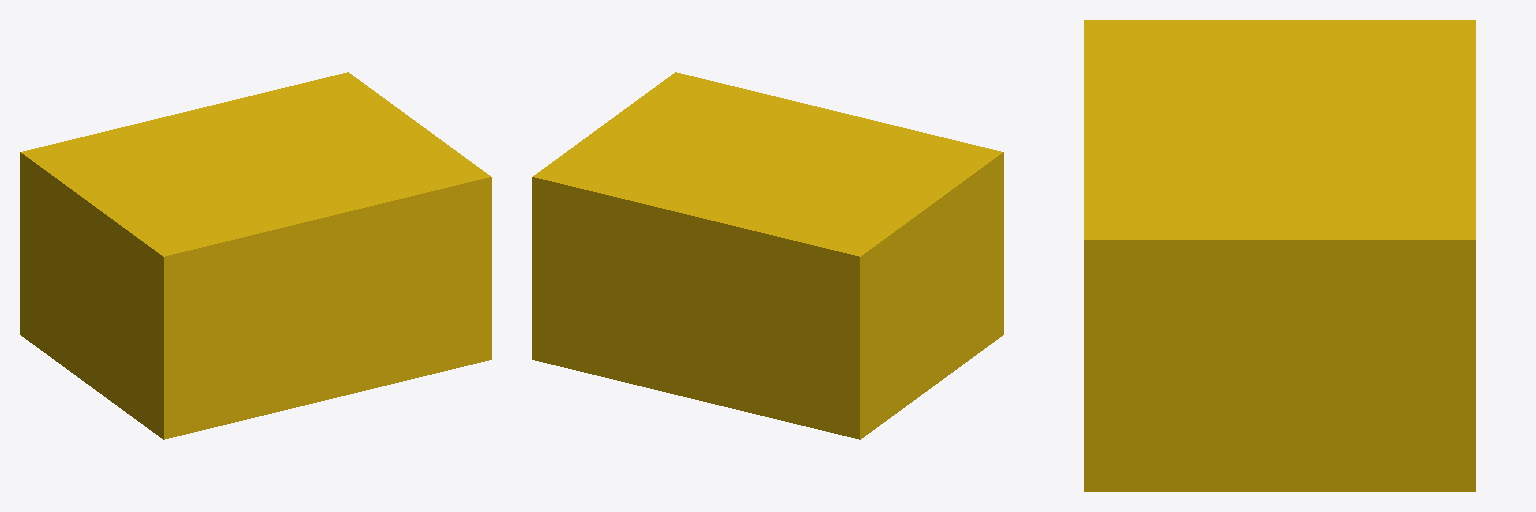
robot.urdf — powerbot:
<?xml version="1.0" ?>
<!-- =================================================================================== -->
<!-- |    This document was autogenerated by xacro from powerbot.urdf.xacro            | -->
<!-- |    EDITING THIS FILE BY HAND IS NOT RECOMMENDED                                 | -->
<!-- =================================================================================== -->
<!-- ft: xml -->
<!-- this is originally from ubc-ros-pkg
https://svn.code.sf.net/p/ubc-ros-pkg/code/trunk/robots/powerbot_defs/

It does not have the exact shape of the robot (just blocks) but should be the
right dimensions. 
-->
<robot name="powerbot">
  <material name="Blue">
    <color rgba="0.0 0.0 0.8 1.0"/>
  </material>
  <material name="Yellow">
    <color rgba="0.9 0.75 0.1 1.0"/>
  </material>
  <material name="Black">
    <color rgba="0.0 0.0 0.0 1.0"/>
  </material>
  <!-- Base -->
  <link name="base_link">
    <inertial>
      <mass value="120.0"/>
      <origin xyz="0.45 0.34 0.24"/>
      <inertia ixx="5.652232699207" ixy="-0.009719934438" ixz="1.293988226423" iyy="5.669473158652" iyz="-0.007379583694" izz="3.683196351726"/>
    </inertial>
    <visual>
      <origin rpy="0 0 0" xyz="-0.1 0 0.24"/>
      <geometry name="base_visual_geom">
        <box size="0.9 0.68 0.48"/>
      </geometry>
      <material name="Yellow"/>
    </visual>
    <collision name="base_collision">
      <origin rpy="0 0 0" xyz="0 0 0.24"/>
      <geometry name="base_collision_geom">
        <box size="0.9 0.68 0.48"/>
      </geometry>
    </collision>
  </link>
  <!-- Base footprint -->
  <joint name="base_footprint_joint" type="fixed">
    <origin rpy="0 0 0" xyz="0 0 -0.07"/>
    <parent link="base_link"/>
    <child link="base_footprint"/>
  </joint>
  <link name="base_footprint"/>
  <!-- base laser -->
  <joint name="base_laser_joint" type="fixed">
    <origin rpy="0 0 0" xyz="0.27 0 0.075"/>
    <parent link="base_link"/>
    <child link="base_laser"/>
  </joint>
  <link name="base_laser" type="laser">
    <inertial>
      <mass value="1.0"/>
      <origin xyz="0 0 0"/>
      <inertia ixx="0.1" ixy="0" ixz="0" iyy="0.1" iyz="0" izz="0.1"/>
    </inertial>
    <visual name="base_lvisual">
      <origin rpy="0 0 0" xyz="0 0 0"/>
      <geometry name="base_laser_visual_geom">
        <box size="0.15 0.15 0.15"/>
      </geometry>
      <material name="Blue"/>
    </visual>
    <collision name="base_lcollision">
      <origin rpy="0 0 0" xyz="0 0 0"/>
      <geometry name="base_laser_collision_geom">
        <box size="0.15 0.15 0.15"/>
      </geometry>
    </collision>
  </link>
</robot>

--- Render facts (derived) ---
The picture shows the robot from 3 angles, left to right: view 1: azimuth 30°, elevation 25°; view 2: azimuth 150°, elevation 25°; view 3: azimuth 270°, elevation 25°; orthographic projection.
Model powerbot with 3 links and 2 joints (2 fixed), rooted at base_link, posed all joints at 0.
Visible links, largest first — view 1: base_link; view 2: base_link; view 3: base_link.
Link boxes in pixels (<box>): base_link: <box>20,72,491,439</box>; base_link: <box>532,72,1003,439</box>; base_link: <box>1084,20,1475,491</box>.
Bounding box of the posed robot: 0.9 × 0.68 × 0.48 m (x, y, z).
Geometry: primitives only (box / cylinder / sphere), no mesh files.